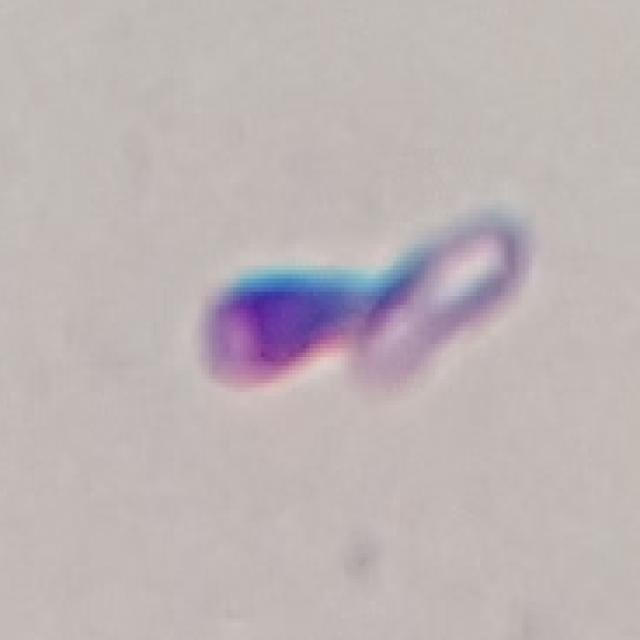abnormal sperm: (174, 185, 562, 424)
